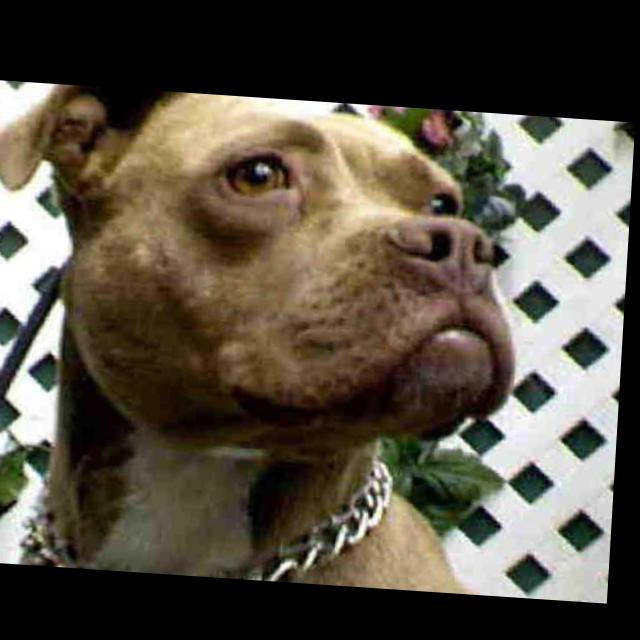staffford: (1, 81, 533, 590)
